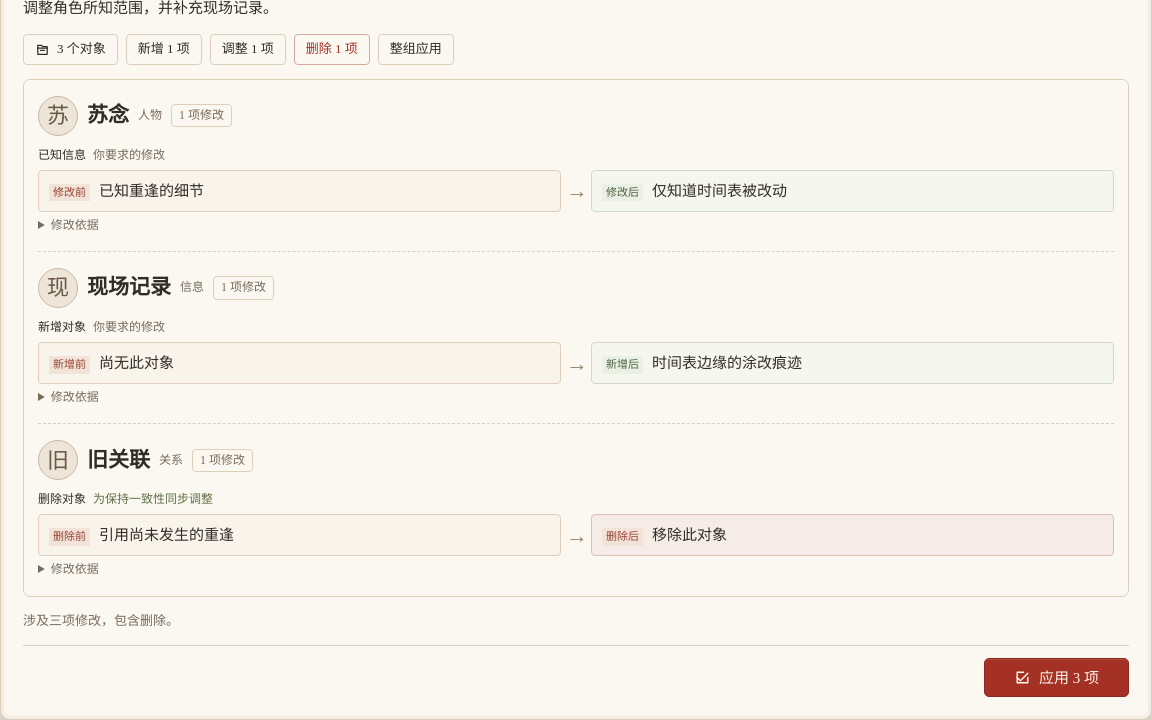
Test: public patch dossier card › keeps blocked proposals out of the confirmation step
(page scrolled)
Click the button "应用 3 项": (1056, 678) top-left (984, 658), bottom-right (1129, 698)
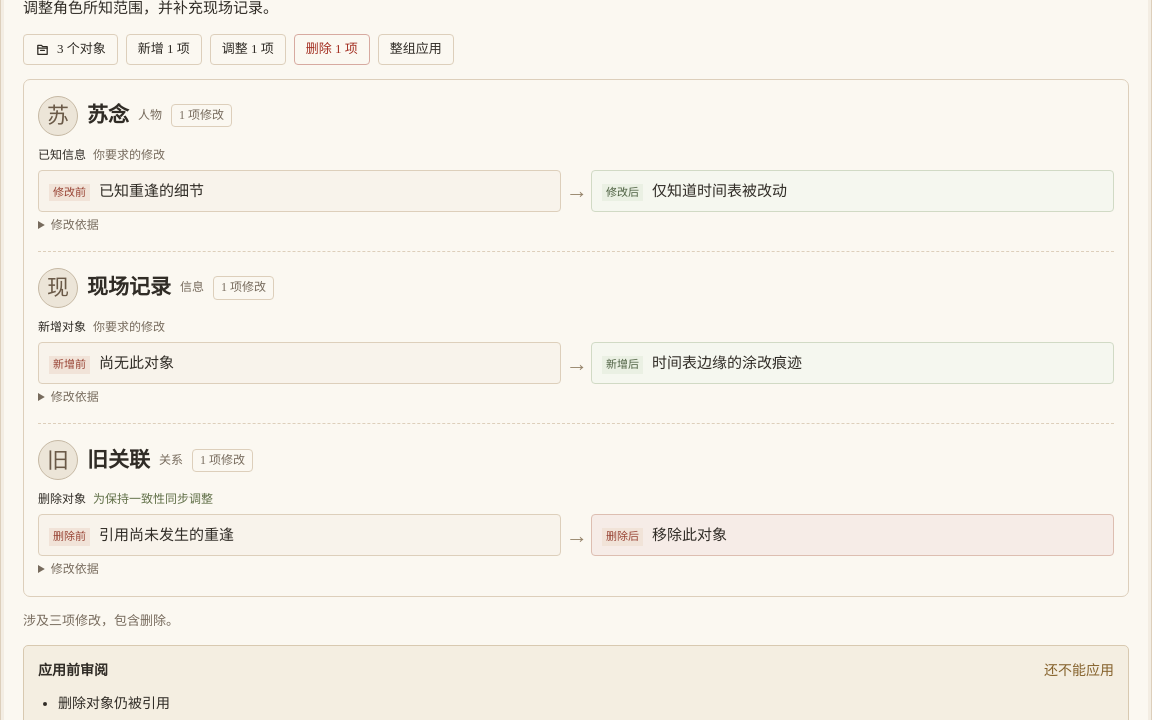
Expected: the list item "删除对象仍被引用" is shown, top-left (58, 696), bottom-right (170, 711)
